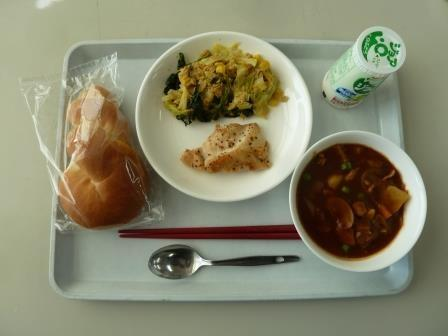Bread: (34, 73, 157, 225)
Drinkable yogurt: (323, 23, 405, 106)
Meat: (184, 116, 284, 187)
vegetable based cooked food: (155, 35, 279, 122)
vegetable soup: (291, 139, 419, 260)
